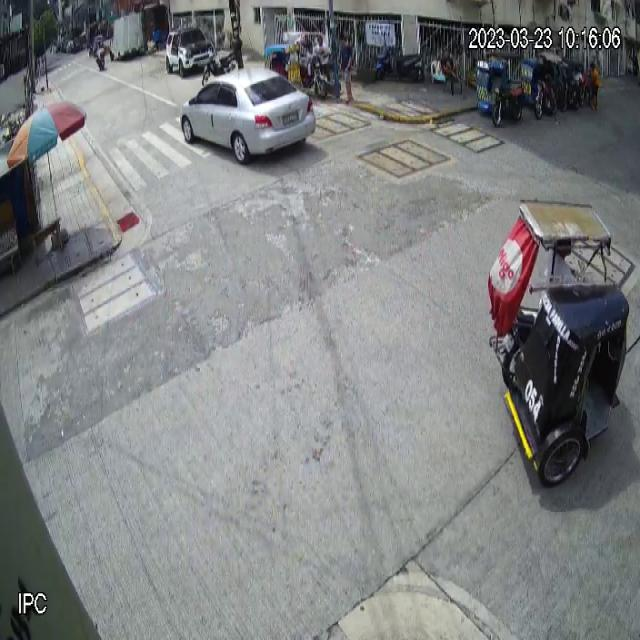Car: (180, 65, 317, 164)
Tricycle: (488, 200, 630, 488), (475, 52, 526, 130), (521, 51, 563, 120)
